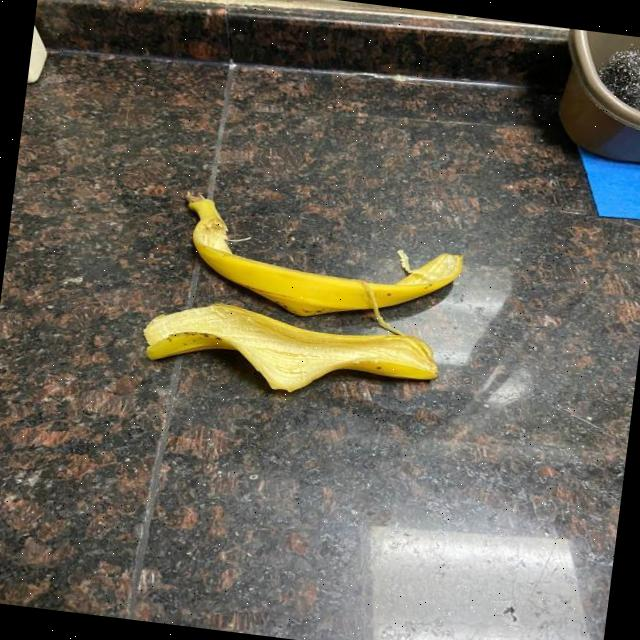banana-peel: (170, 188, 467, 336), (136, 292, 443, 411)
